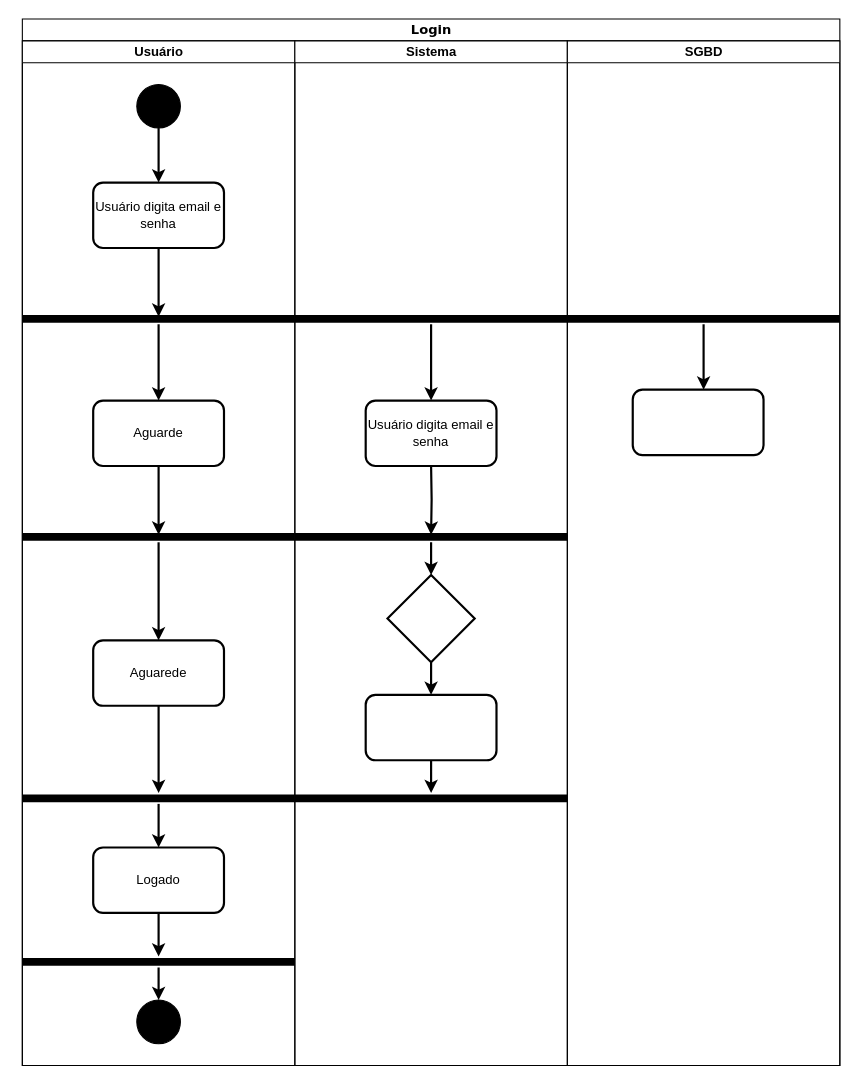
Image size: 862x1085. Some labels were removed from this diagram. Here are the shapes that lost their labels. From the top down, the centre of each, then its label:
the point at 697,422: Valida se existe usuário
the point at 430,618: Existe Usuário
the point at 430,727: Return = true Devolve status para usuário
